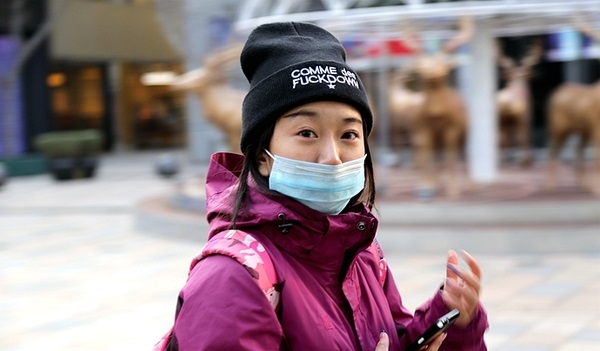face_mask: (266, 98, 364, 213)
